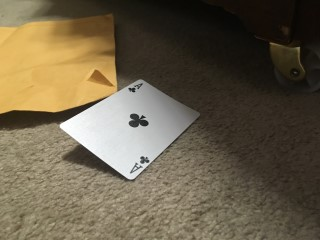AceOfClubs: (59, 79, 201, 182)
